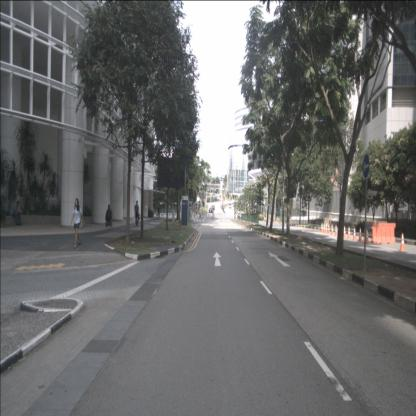barrier: (370, 223, 395, 245)
cone: (399, 233, 407, 252), (346, 226, 352, 240), (365, 228, 370, 244), (352, 227, 357, 241), (358, 228, 362, 242), (334, 224, 338, 236), (343, 225, 346, 240), (330, 224, 334, 235), (320, 223, 324, 232), (324, 224, 328, 233), (327, 224, 330, 234), (323, 223, 325, 233)
